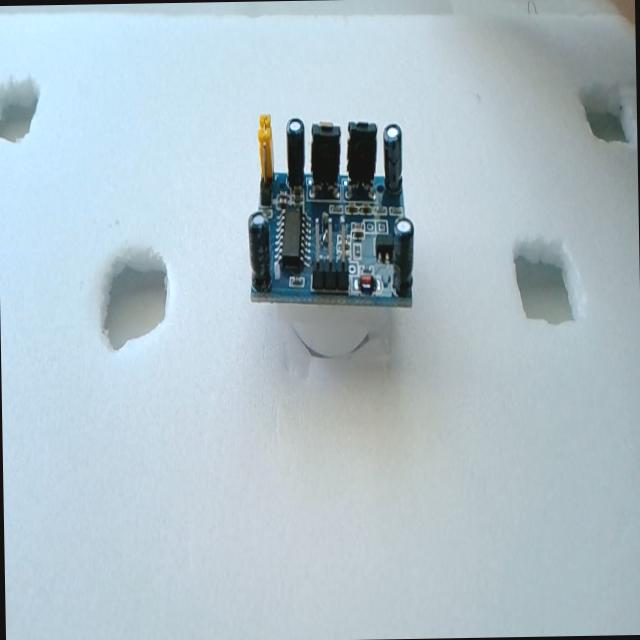Electrolytic capacitor: (248, 212, 271, 292), (392, 218, 415, 294), (382, 122, 402, 196), (285, 117, 305, 191)
IC: (272, 198, 312, 280)
pinheader: (310, 219, 350, 289)
